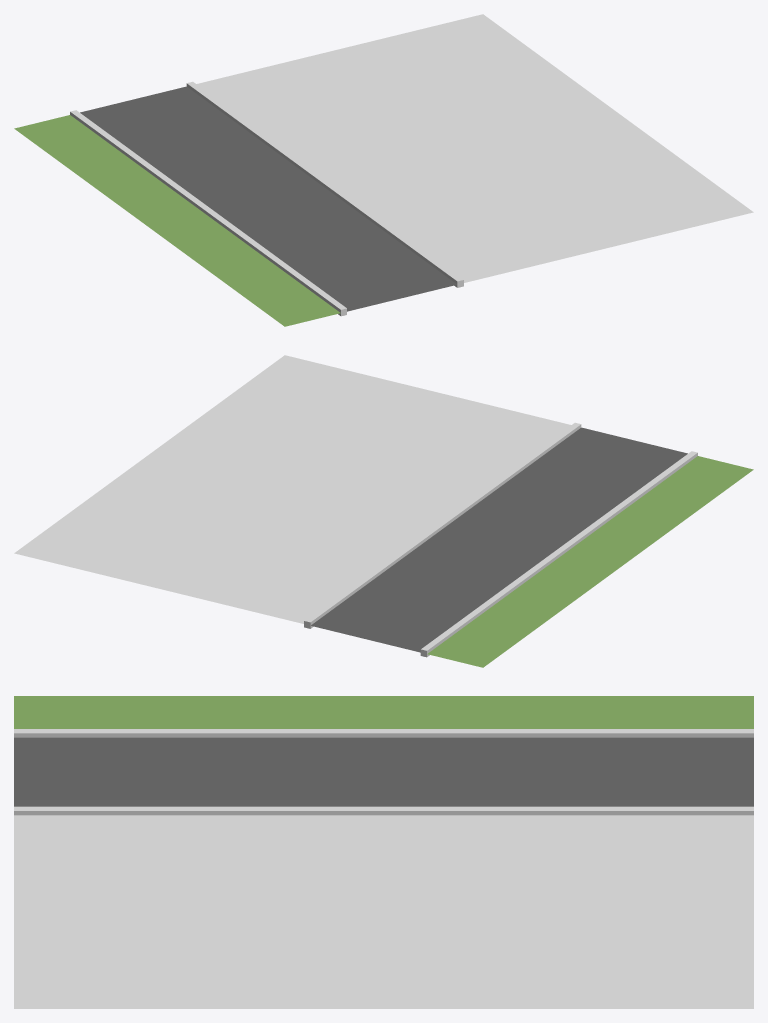
Rendered from set_b_tiles_05.glb.
3 views of the same model, one above another, from view 1: azimuth 30°, elevation 25°; view 2: azimuth 150°, elevation 25°; view 3: azimuth 270°, elevation 25° (orthographic). The views are drawn at different scales.
Visible parts, largest first — view 1: set_b_tiles_05; view 2: set_b_tiles_05; view 3: set_b_tiles_05.
Boxes of the visible parts, left/top/right/bottom form: set_b_tiles_05: left=14, top=14, right=753, bottom=326; set_b_tiles_05: left=14, top=355, right=753, bottom=667; set_b_tiles_05: left=14, top=696, right=753, bottom=1008.
Size of the model in its own units: 15 by 0.2 by 15.
